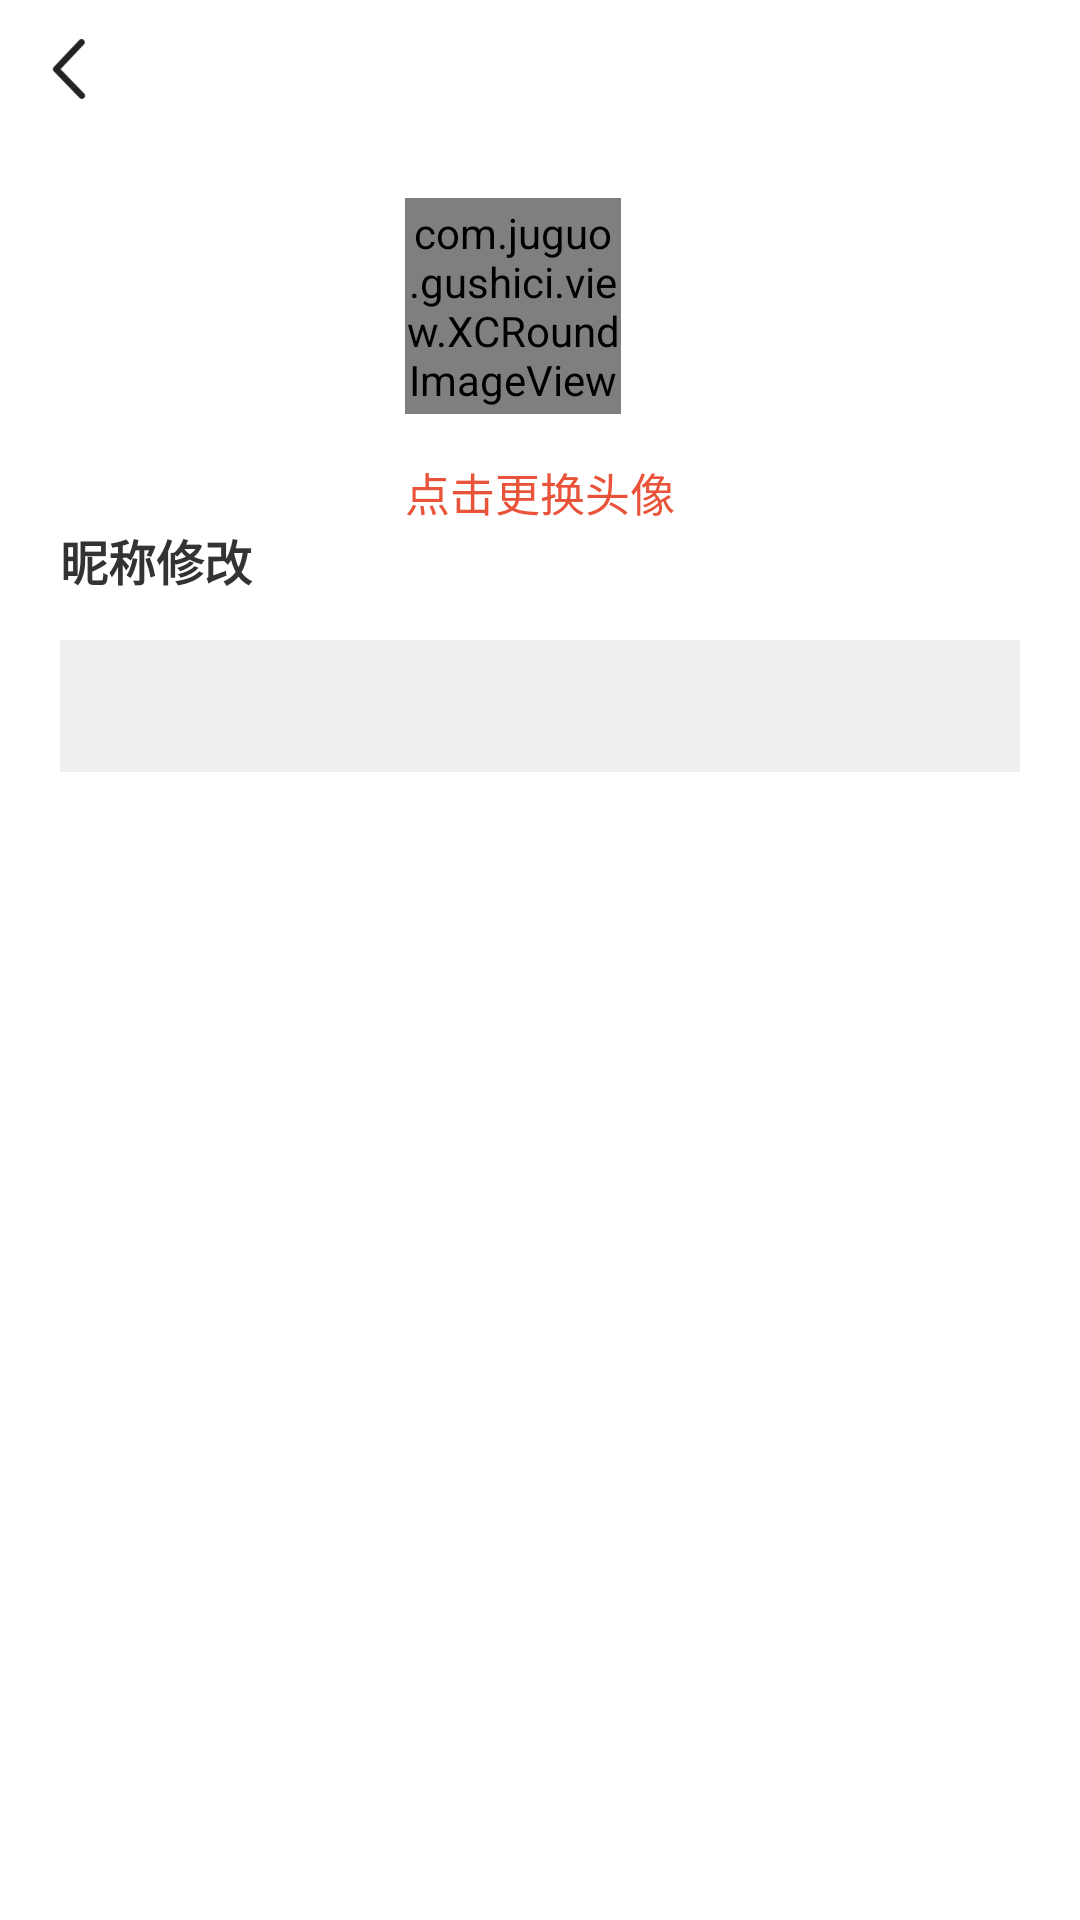

Icons on this 1080w x 1920h Android screen, each with its box as rect(x1, y1, x2, y2):
arrow left: rect(52, 39, 86, 99)
